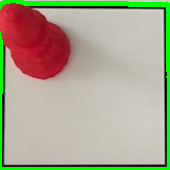Red Bishop: (1, 3, 73, 82)
